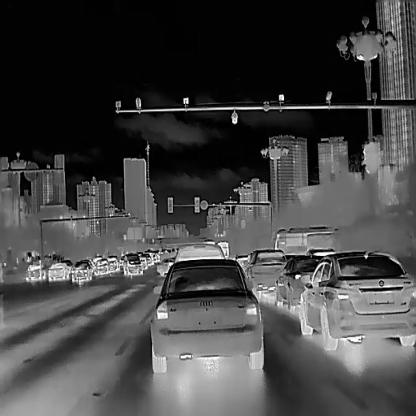bus: (273, 226, 337, 254), (217, 240, 228, 258)
car: (148, 258, 262, 372), (299, 250, 415, 350), (273, 254, 324, 310), (245, 248, 288, 292), (70, 259, 92, 281), (122, 252, 142, 274), (47, 262, 69, 280), (24, 263, 45, 281), (94, 258, 109, 274), (105, 254, 118, 272)
